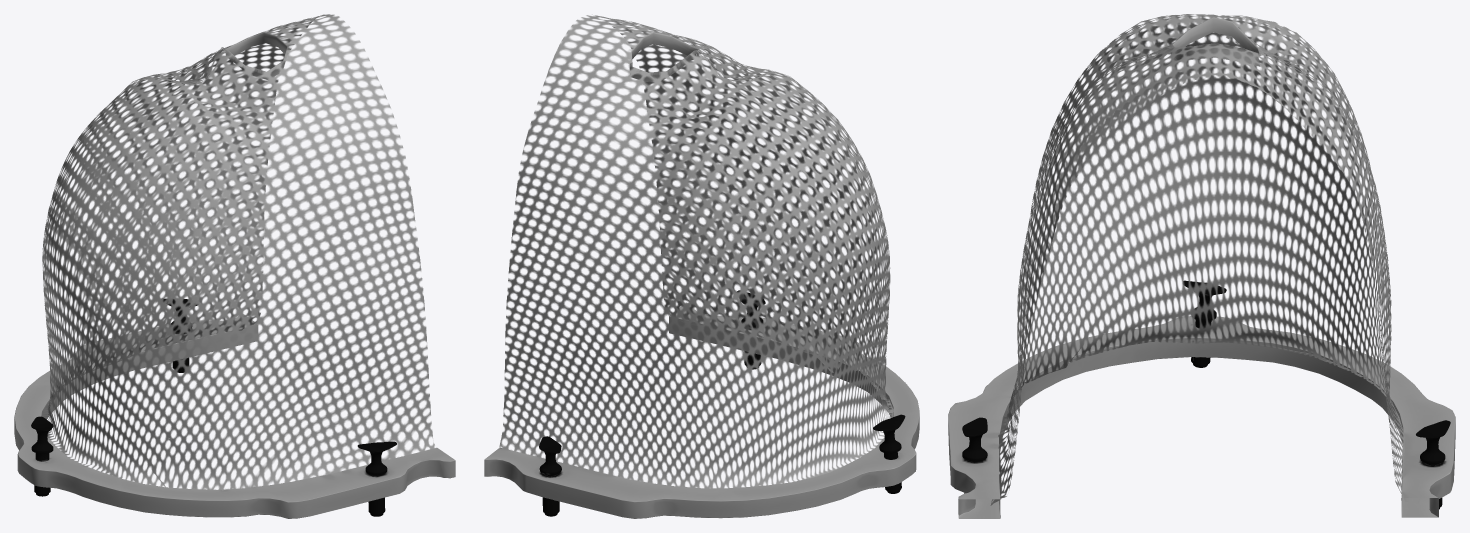
The model's file is head.glb.
3 views of the same model, side by side, from view 1: azimuth 30°, elevation 25°; view 2: azimuth 150°, elevation 25°; view 3: azimuth 270°, elevation 25° (orthographic). The views are drawn at different scales.
Parts seen in each view (by area): view 1: mesh-0; view 2: mesh-0; view 3: mesh-0.
Part boxes in pixels (x1,y1,x2,y2): mesh-0: (14, 14, 455, 518); mesh-0: (484, 14, 919, 518); mesh-0: (948, 14, 1455, 518).
Bounding box in the file's own units: 26.93 × 32.15 × 31.42.
Materials: 1 (1 with a texture image).
